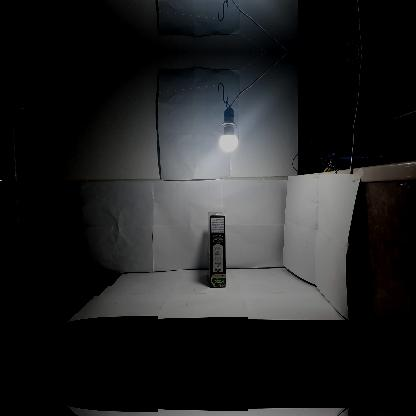Koko-Krunch: (207, 211, 225, 287)
